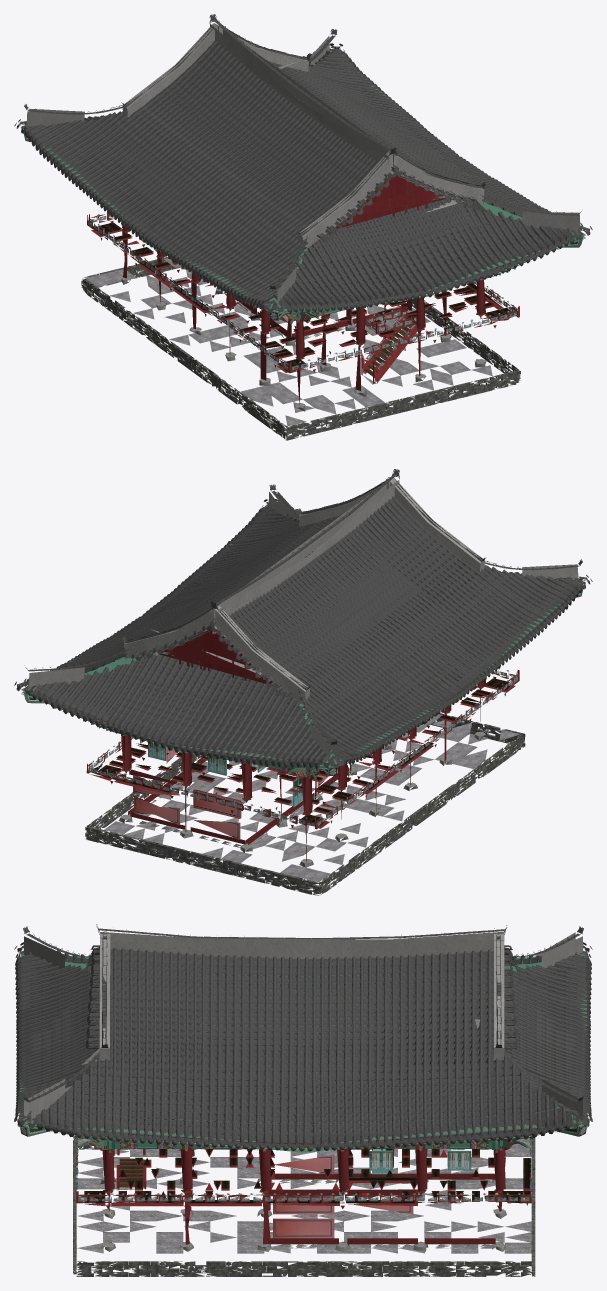
The model's file is manggyeong.glb.
3 views of the same model, one above another, from view 1: azimuth 30°, elevation 25°; view 2: azimuth 150°, elevation 25°; view 3: azimuth 270°, elevation 25° (orthographic). The views are drawn at different scales.
Visible parts, largest first — view 1: 14_Mang_gyeongru, 14_Mang_gyeongru_lambert12_0.002, 14_Mang_gyeongru_lambert12_0.001, 14_Mang_gyeongru_lambert10_0.001, 14_Mang_gyeongru_lambert10_0.002, 14_Mang_gyeongru__Sugiwa_265k1_0.001; view 2: 14_Mang_gyeongru, 14_Mang_gyeongru_lambert12_0.002, 14_Mang_gyeongru_lambert12_0.001, 14_Mang_gyeongru_lambert10_0.002, 14_Mang_gyeongru_lambert10_0.001, 14_Mang_gyeongru__Sugiwa_265k1_0.001; view 3: 14_Mang_gyeongru, 14_Mang_gyeongru_lambert10_0.002, 14_Mang_gyeongru_lambert12_0.001, 14_Mang_gyeongru_lambert10_0.001, 14_Mang_gyeongru_lambert10_0.003, 14_Mang_gyeongru__Sugiwa_265k1_0.001.
Boxes of the visible parts, box(x1,y1,x2,y2) form: 14_Mang_gyeongru: box(14, 14, 592, 440); 14_Mang_gyeongru_lambert12_0.002: box(70, 40, 375, 296); 14_Mang_gyeongru_lambert12_0.001: box(37, 50, 569, 299); 14_Mang_gyeongru_lambert10_0.001: box(28, 51, 572, 305); 14_Mang_gyeongru_lambert10_0.002: box(25, 48, 579, 306); 14_Mang_gyeongru__Sugiwa_265k1_0.001: box(102, 33, 579, 289); 14_Mang_gyeongru: box(14, 469, 592, 895); 14_Mang_gyeongru_lambert12_0.002: box(228, 502, 568, 738); 14_Mang_gyeongru_lambert12_0.001: box(37, 496, 570, 755); 14_Mang_gyeongru_lambert10_0.002: box(26, 506, 581, 760); 14_Mang_gyeongru_lambert10_0.001: box(84, 496, 563, 761); 14_Mang_gyeongru__Sugiwa_265k1_0.001: box(28, 489, 579, 709); 14_Mang_gyeongru: box(14, 924, 592, 1276); 14_Mang_gyeongru_lambert10_0.002: box(21, 952, 585, 1142); 14_Mang_gyeongru_lambert12_0.001: box(29, 947, 577, 1130); 14_Mang_gyeongru_lambert10_0.001: box(21, 949, 585, 1136); 14_Mang_gyeongru_lambert10_0.003: box(172, 953, 463, 1141); 14_Mang_gyeongru__Sugiwa_265k1_0.001: box(26, 931, 579, 1102).
Size of the model in its own units: 17.92 by 13.37 by 24.34.
Materials: 44 (44 with a texture image).
